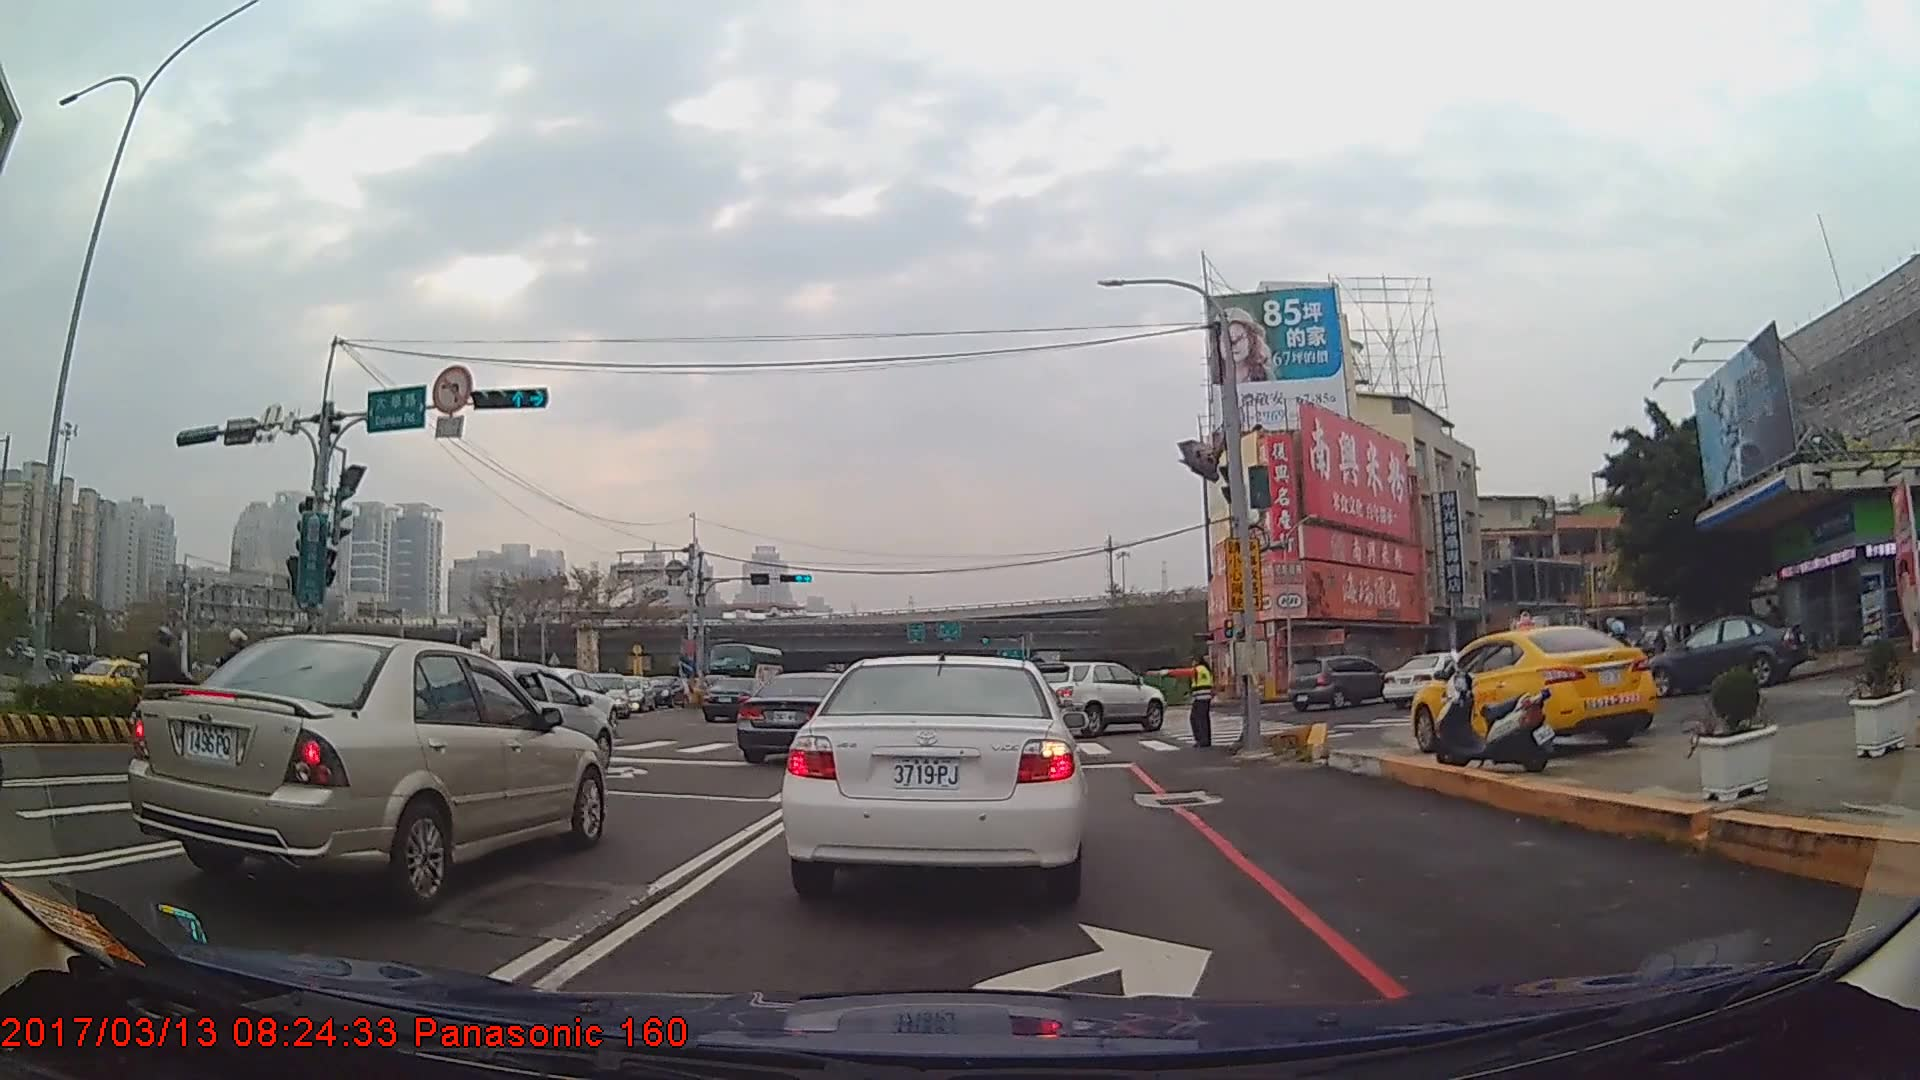pedestrian: (1146, 658, 1215, 754)
rider: (131, 626, 208, 756)
vehicle: (128, 633, 609, 907), (778, 649, 1088, 898), (1411, 623, 1651, 750), (1636, 611, 1807, 695), (735, 672, 872, 762), (1028, 658, 1163, 735), (1381, 650, 1490, 711), (1285, 655, 1393, 712), (698, 672, 777, 722), (588, 669, 631, 718)
